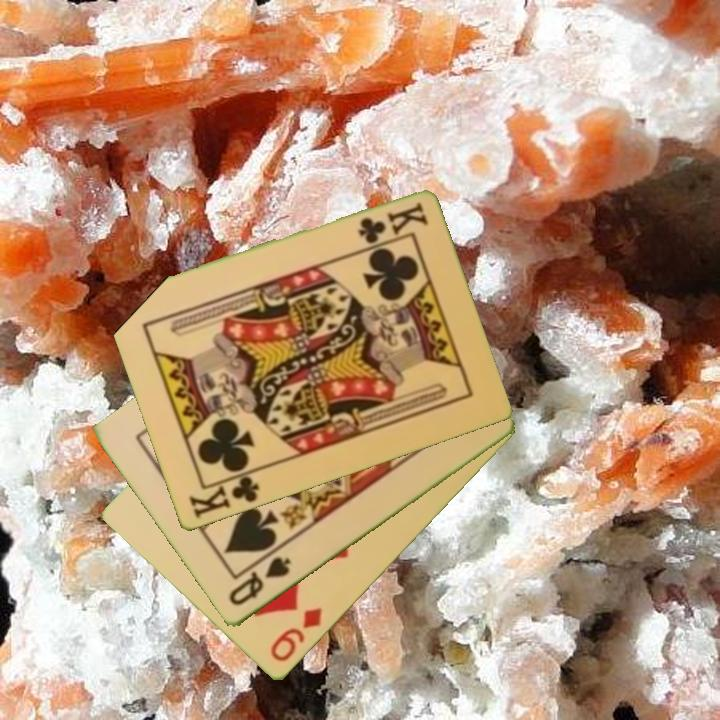9d: (267, 604, 325, 666)
Kc: (185, 467, 262, 522), (354, 199, 430, 247)
Qs: (225, 553, 294, 610)
